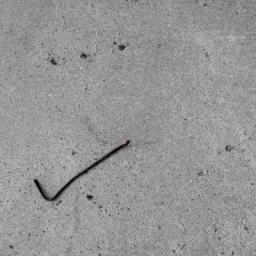FOD: (32, 139, 137, 205)
